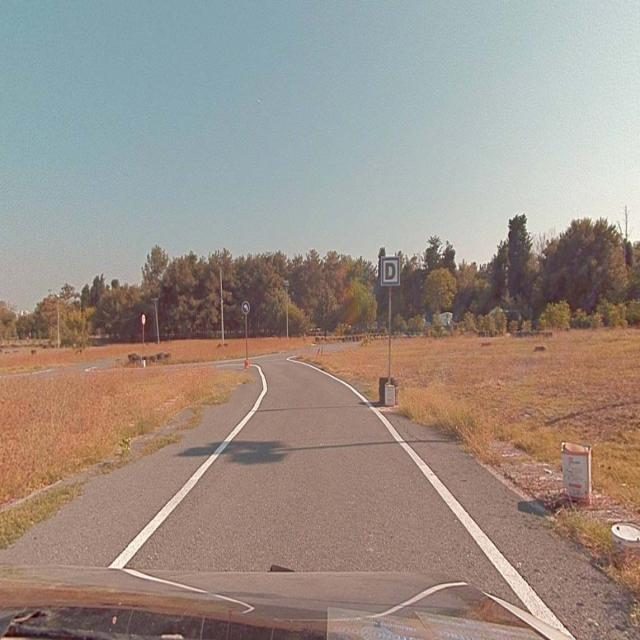durak: (382, 257, 400, 286)
sol: (242, 302, 250, 314)
